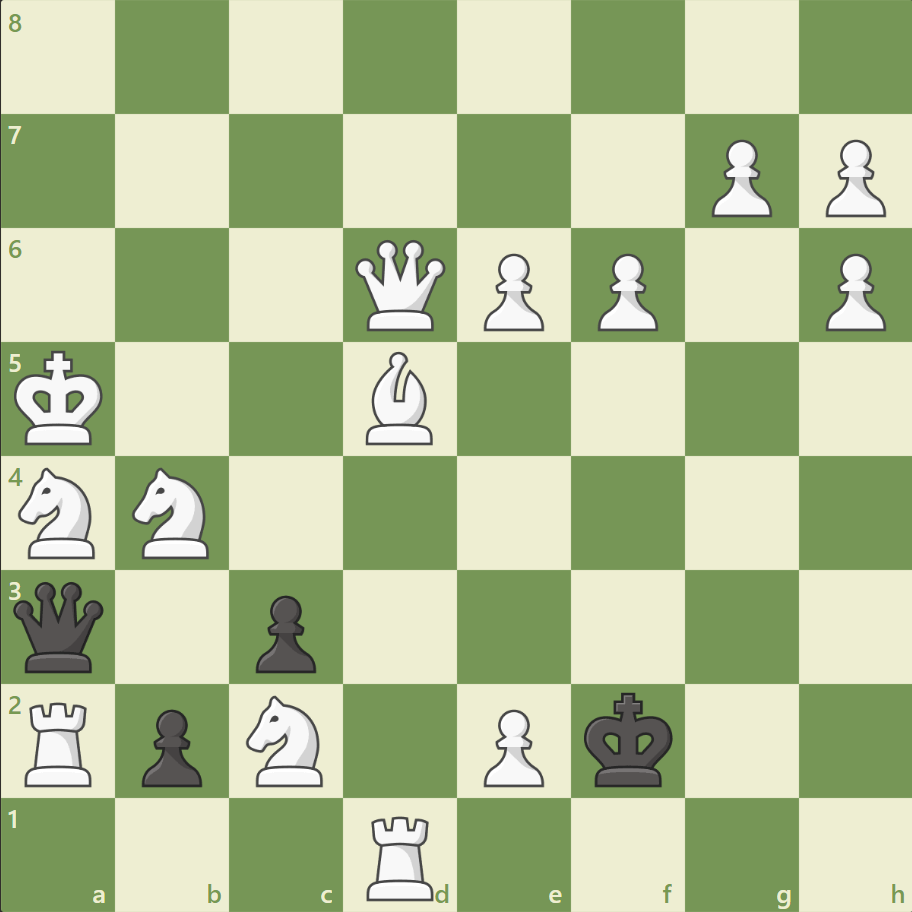B: (358, 347, 442, 449)
K: (11, 344, 111, 452)
N: (124, 461, 222, 564), (11, 461, 108, 564), (238, 688, 335, 791)
P: (701, 132, 776, 223), (474, 246, 549, 337), (474, 700, 549, 791), (815, 132, 889, 223), (588, 246, 662, 337), (815, 246, 889, 337)
Q: (351, 236, 450, 335)
R: (19, 693, 102, 790), (360, 806, 442, 904)
k: (579, 685, 679, 793)
p: (247, 586, 322, 677), (133, 700, 208, 791)
q: (10, 576, 109, 676)
